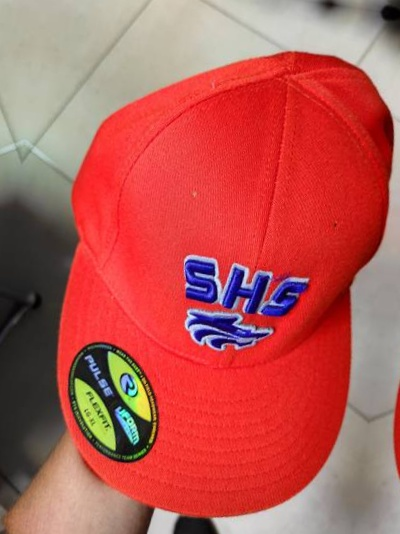Hat: (0, 7, 400, 534), (363, 61, 400, 534), (0, 0, 25, 481)
